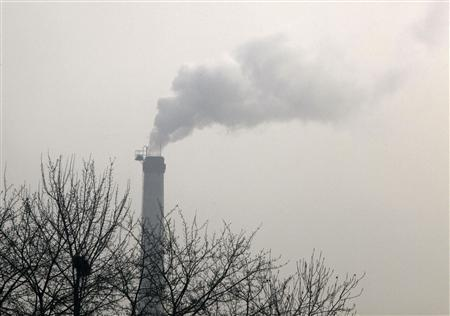smoke: (160, 41, 397, 128)
